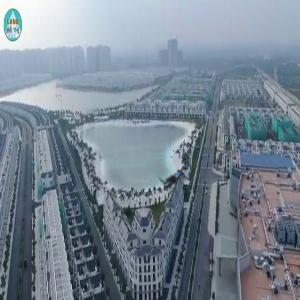drone: (140, 147, 212, 219)
